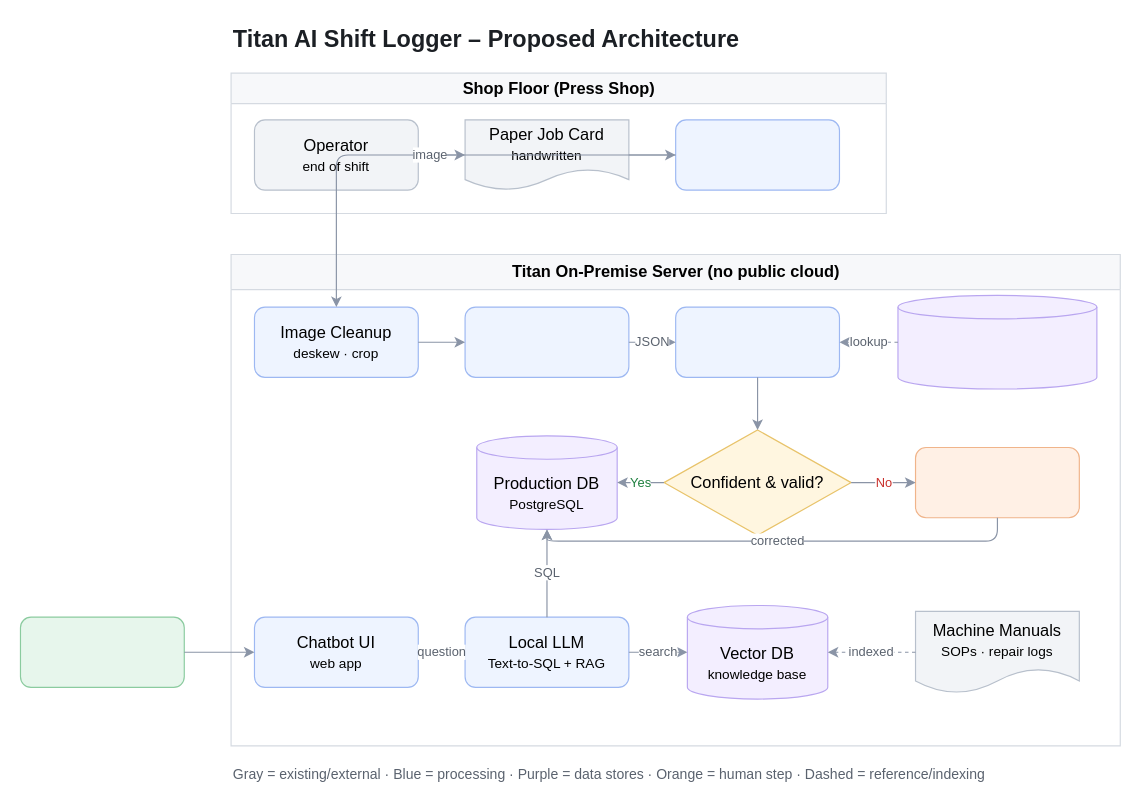
Some shapes in this 1141 by 812 pixel diagram are drawn without their labels. The box of each missing label's shape, as (x1, y1, x2, y2) in pixels:
Management asks questions: (19, 616, 184, 687)
Master Data codes · machines · employees · std rates: (897, 294, 1097, 389)
Photo / Scan phone or scanner: (675, 119, 839, 190)
Supervisor Review photo vs values: (914, 446, 1079, 518)
Validation Rules hours · qty · codes: (675, 306, 839, 377)
VLM Extraction image → JSON: (464, 306, 629, 377)
